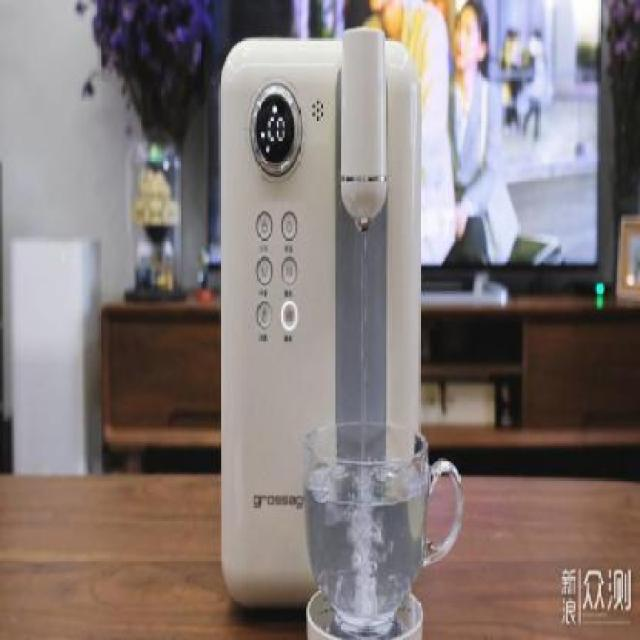cooler: (219, 21, 423, 608)
